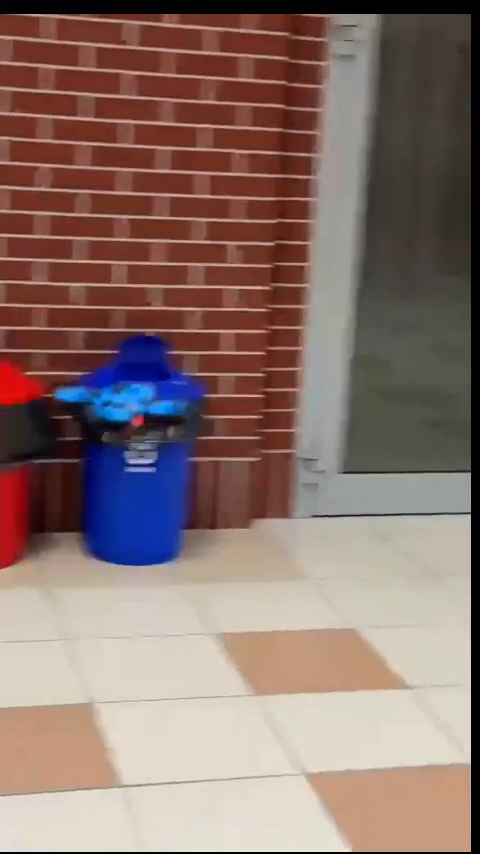drone: (48, 380, 187, 444)
